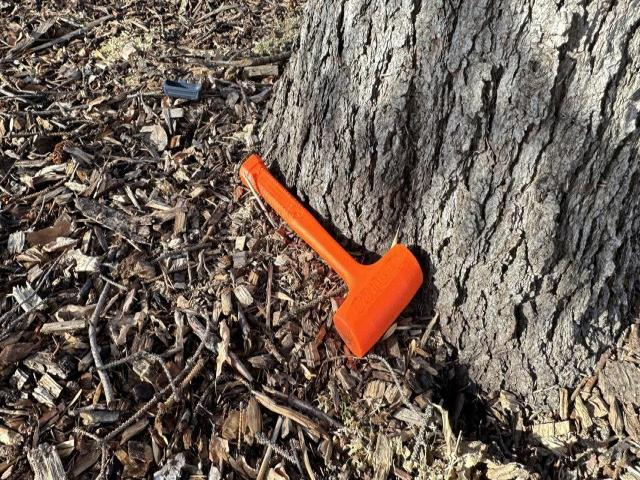hammer: (239, 156, 426, 358)
